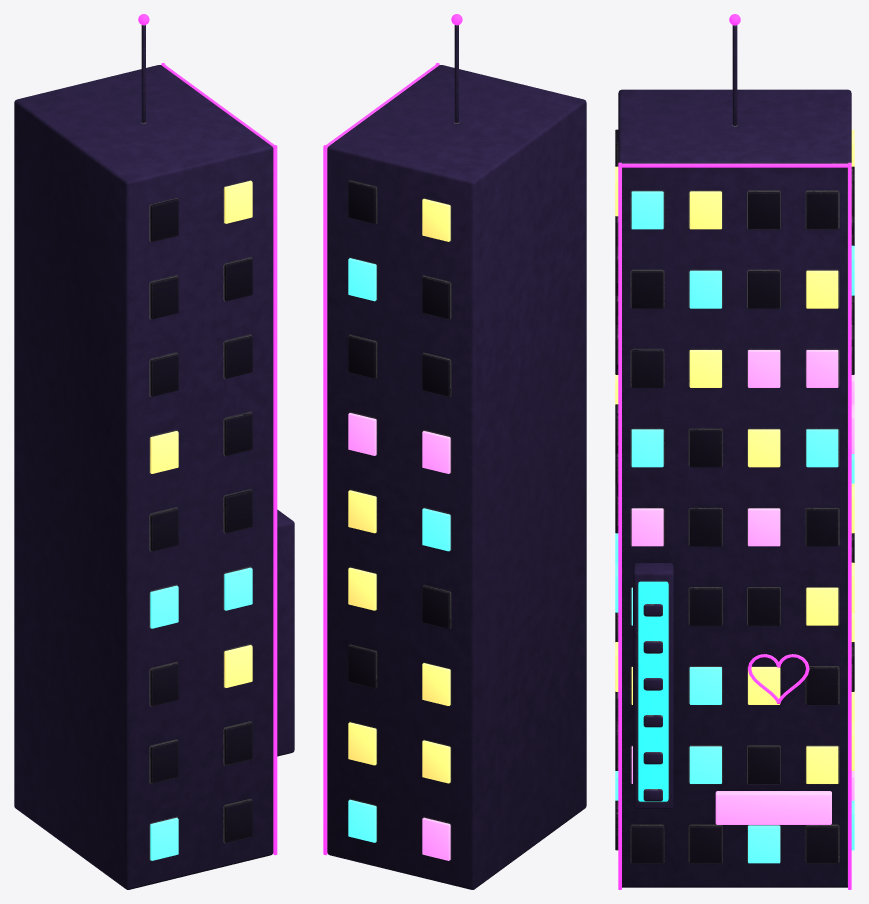
The model's file is rn_building_a.glb.
3 renders of one model, left to right at view 1: azimuth 30°, elevation 25°; view 2: azimuth 150°, elevation 25°; view 3: azimuth 270°, elevation 25°, orthographic. The views are drawn at different scales.
Visible parts, largest first — view 1: rn_building_a; view 2: rn_building_a; view 3: rn_building_a.
Boxes of the visible parts, x1,y1,x2,y2 form: rn_building_a: [14, 14, 294, 889]; rn_building_a: [323, 14, 586, 889]; rn_building_a: [615, 14, 854, 889].
Size of the model in its own units: 7.25 by 31.7 by 8.22.
Materials: 7 (7 with a texture image).
